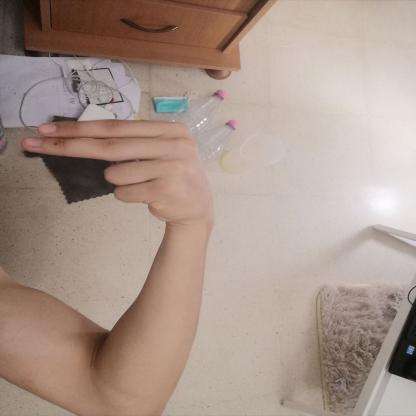AYN: (12, 112, 233, 232)
